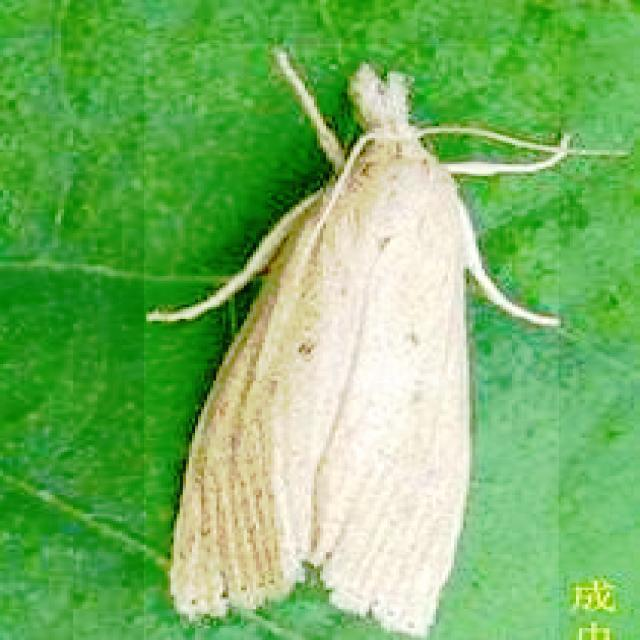stem-borer: (144, 44, 559, 640)
